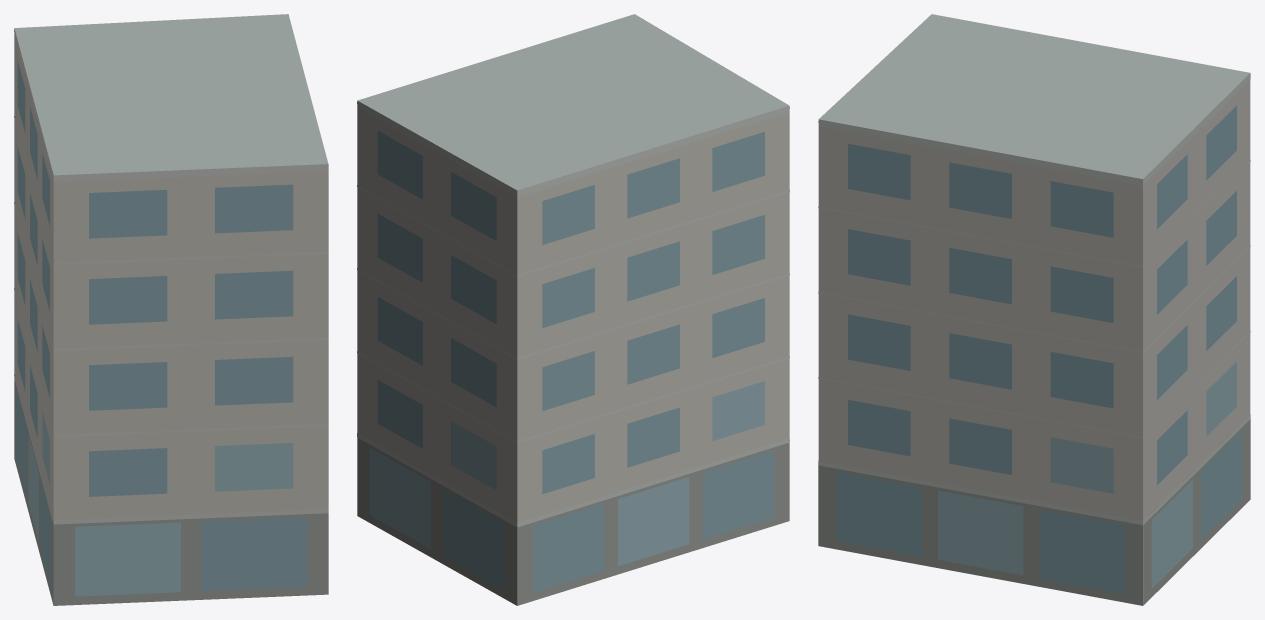
The model's file is survey-upis-32749576.glb.
The picture shows the model from 3 angles, left to right: view 1: azimuth 30°, elevation 25°; view 2: azimuth 150°, elevation 25°; view 3: azimuth 270°, elevation 25°; orthographic projection. The views are drawn at different scales.
Parts seen in each view (by area): view 1: survey-upis-32749576.tmp; view 2: survey-upis-32749576.tmp; view 3: survey-upis-32749576.tmp.
Boxes of the visible parts, x1,y1,x2,y2 form: survey-upis-32749576.tmp: (14, 14, 328, 605); survey-upis-32749576.tmp: (357, 14, 789, 605); survey-upis-32749576.tmp: (818, 14, 1250, 605).
Bounding box in the file's own units: 12.39 × 14.9 × 13.69.
